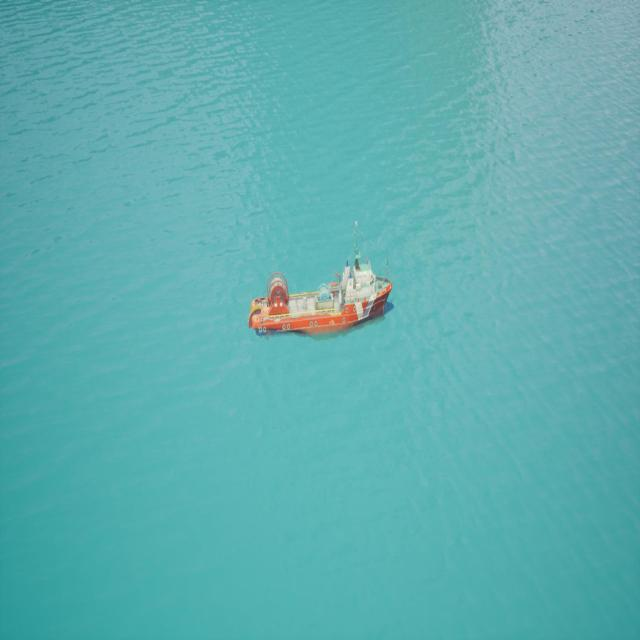tug boat: (249, 222, 405, 371)
